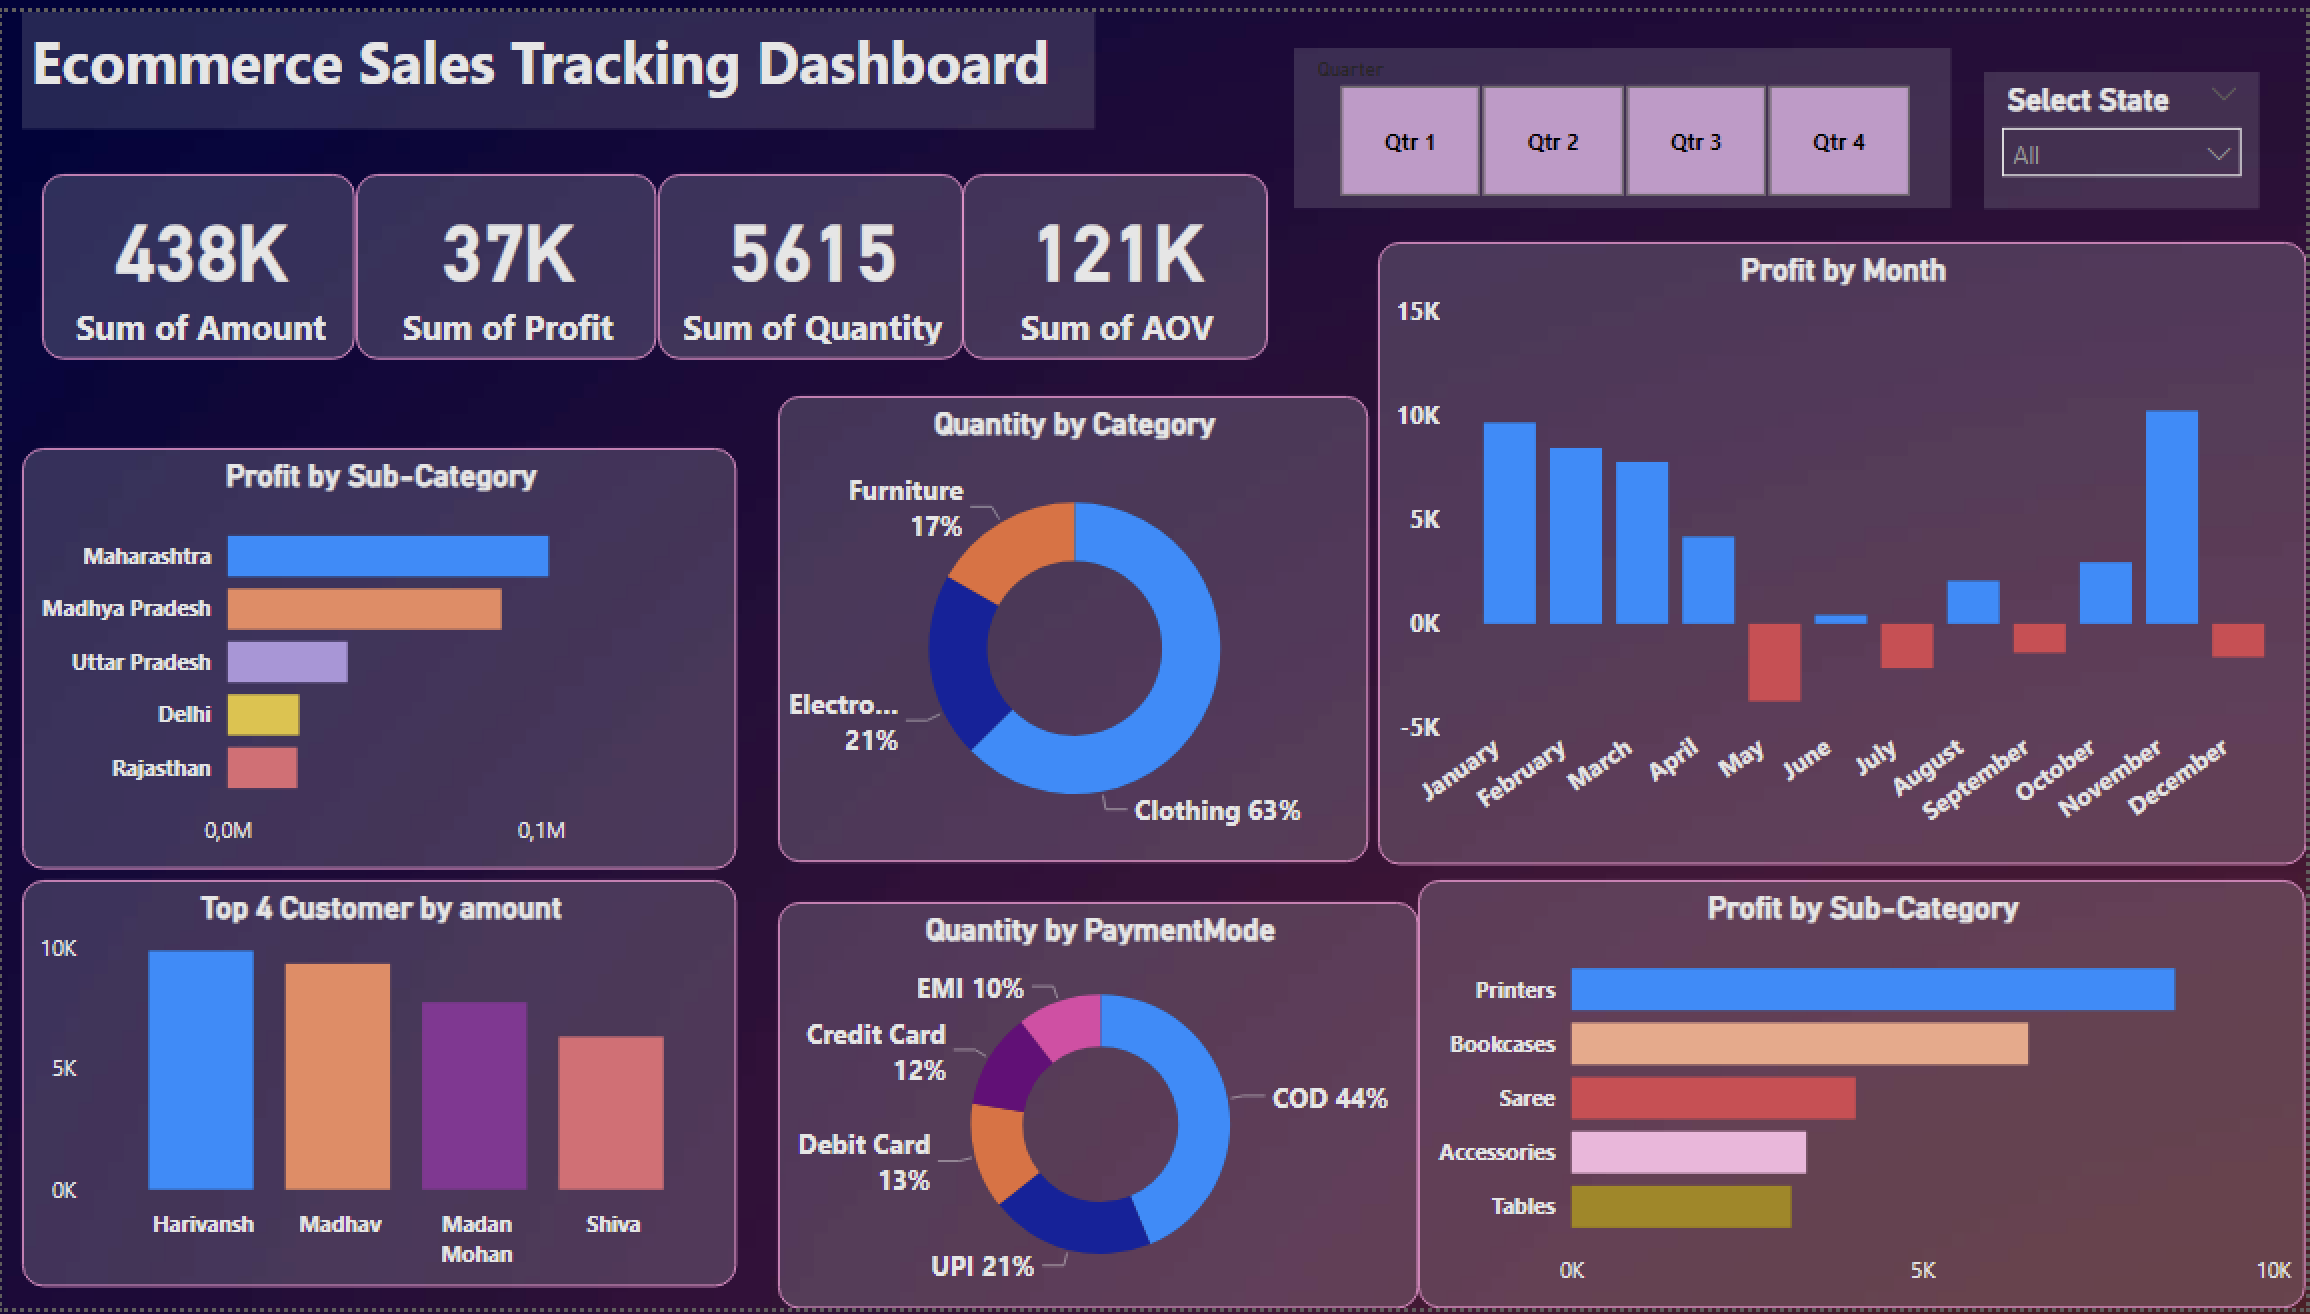

The dashboard page shown, as its layout file describes it:
{"tool":"powerbi","page":{"name":"Page 1","canvas":[1280,720],"ordinal":0},"visuals":[{"type":"textbox","box":[10.6,0,596,65.2],"z":0},{"type":"columnChart","title":" Profit by Month","fields":{"Category":["Orders.Order Date.Variation.Date Hierarchy.Month"],"Y":["Details.Profit"]},"box":[764.4,127.4,515.6,345.8],"z":1000},{"type":"barChart","title":" Profit by Sub-Category","fields":{"Category":["Details.Sub-Category"],"Y":["Details.Profit"]},"box":[787.1,482.3,492.9,238.1],"z":2000},{"type":"donutChart","title":" Quantity by Category","fields":{"Category":["Details.Category"],"Y":["Details.Quantity"]},"box":[430.7,213.8,327.6,259.3],"z":3000},{"type":"donutChart","title":" Quantity by PaymentMode","fields":{"Y":["Details.Quantity"],"Category":["Details.PaymentMode"]},"box":[430.7,494.4,356.4,226],"z":4000},{"type":"card","fields":{"Values":["Details.Amount"]},"box":[22.7,89.5,174.4,103.1],"z":5000},{"type":"card","fields":{"Values":["Details.Profit"]},"box":[197.2,89.5,166.8,103.1],"z":6000},{"type":"card","fields":{"Values":["Details.Quantity"]},"box":[364,89.5,169.9,103.1],"z":7000},{"type":"card","fields":{"Values":["Details.AOV"]},"box":[533.8,89.5,169.9,103.1],"z":8000},{"type":"barChart","title":" Profit by Sub-Category","fields":{"Y":["Details.Amount"],"Category":["Orders.State"]},"box":[10.6,242.7,397.3,233.6],"z":9000},{"type":"columnChart","title":"Top 4 Customer by amount","fields":{"Category":["Orders.CustomerName"],"Y":["Details.Amount"]},"box":[10.6,482.3,397.3,226],"z":10000},{"type":"slicer","fields":{"Values":["Orders.Order Date.Variation.Date Hierarchy.Quarter"]},"box":[717.3,19.7,365.5,89.5],"z":11000},{"type":"slicer","fields":{"Values":["Orders.State"]},"box":[1101,33.4,153.2,75.8],"z":12000}]}

Visuals, with their boxes in screenshot pixels (x1, y1, x2, y2), scaled from the page's 1280x720 canvas onto the 2310x1314 screenshot:
textbox: [19, 0, 1095, 119]
" Profit by Month" columnChart: [1380, 233, 2309, 864]
" Profit by Sub-Category" barChart: [1420, 880, 2309, 1313]
" Quantity by Category" donutChart: [777, 390, 1368, 863]
" Quantity by PaymentMode" donutChart: [777, 902, 1420, 1313]
card - Details.Amount: [41, 163, 356, 351]
card - Details.Profit: [356, 163, 657, 351]
card - Details.Quantity: [657, 163, 964, 351]
card - Details.AOV: [963, 163, 1270, 351]
" Profit by Sub-Category" barChart: [19, 443, 736, 869]
"Top 4 Customer by amount" columnChart: [19, 880, 736, 1293]
slicer - Orders.Order Date.Variation.Date Hierarchy.Quarter: [1295, 36, 1954, 199]
slicer - Orders.State: [1987, 61, 2263, 199]
